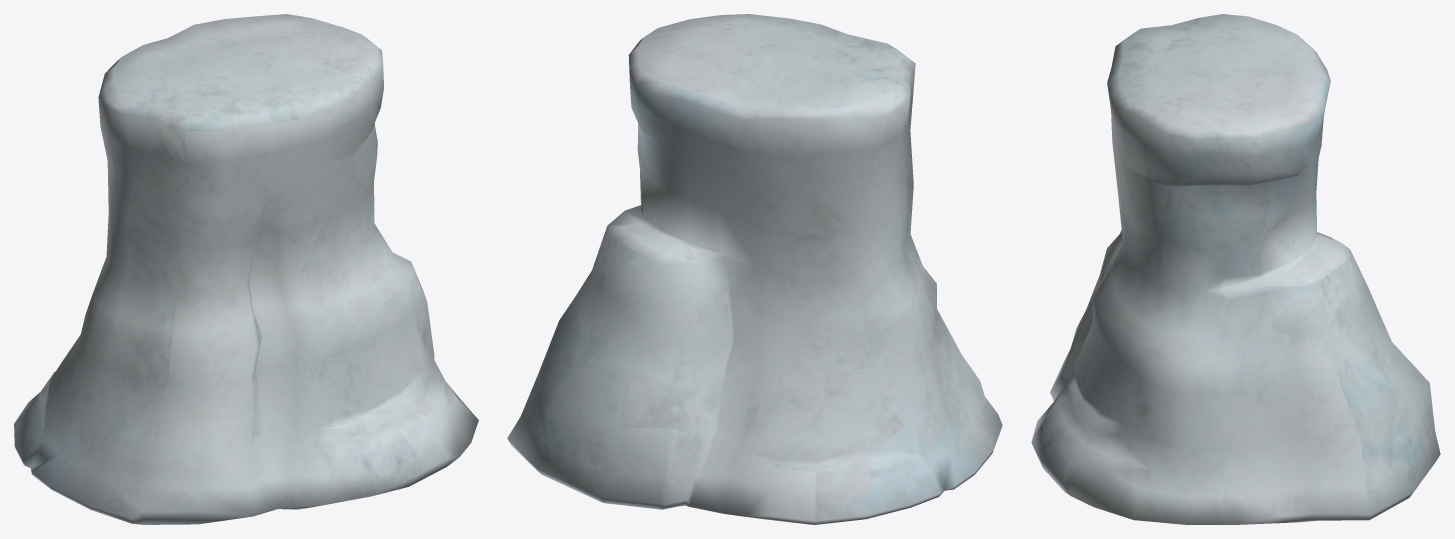
File: P_RockDesert_CliffB03.obj
The picture shows the model from 3 angles, left to right: view 1: azimuth 30°, elevation 25°; view 2: azimuth 150°, elevation 25°; view 3: azimuth 270°, elevation 25°; orthographic projection. The views are drawn at different scales.
Bounding box in the file's own units: 54.25 × 50.61 × 49.77.
